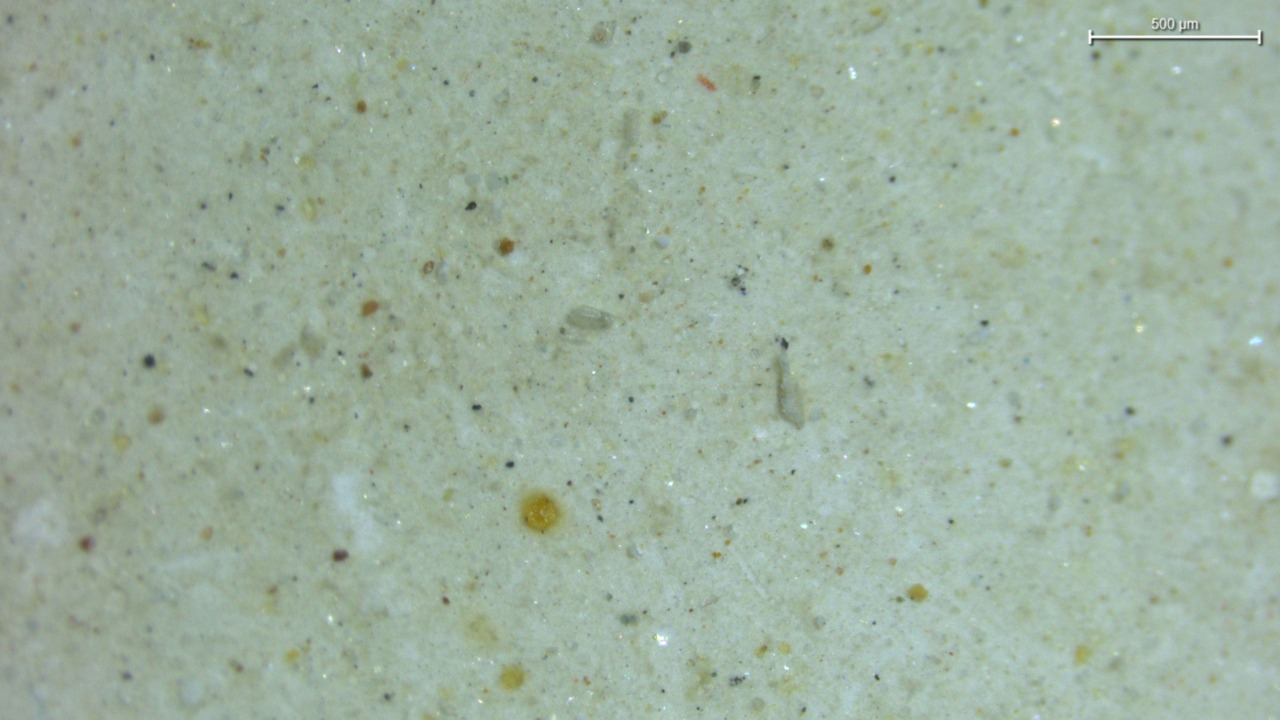microplastic_fragment: (772, 336, 805, 429), (567, 306, 614, 330)
